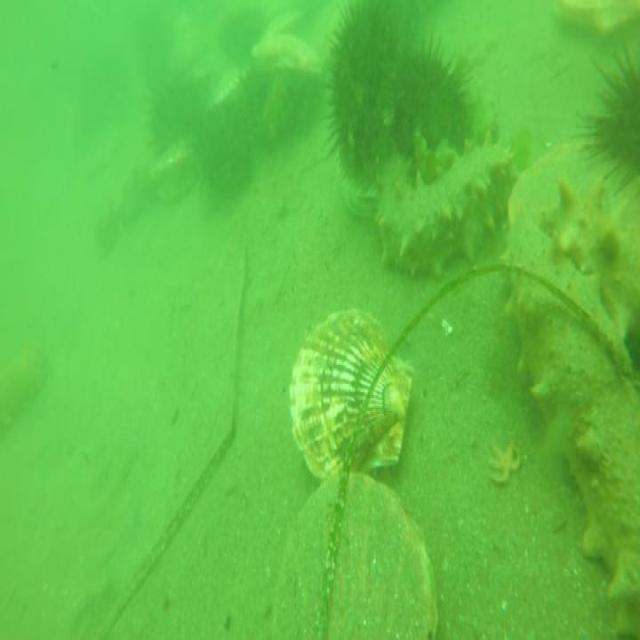echinus: (329, 0, 399, 185), (392, 35, 473, 169), (578, 30, 640, 197), (194, 95, 256, 202), (146, 71, 202, 161), (218, 8, 268, 68)
holothurian: (504, 207, 640, 640), (376, 133, 523, 286), (541, 174, 640, 349)
scallop: (267, 466, 443, 640), (286, 300, 418, 490), (148, 125, 200, 210), (550, 0, 640, 40), (259, 26, 321, 74), (206, 56, 254, 116)
